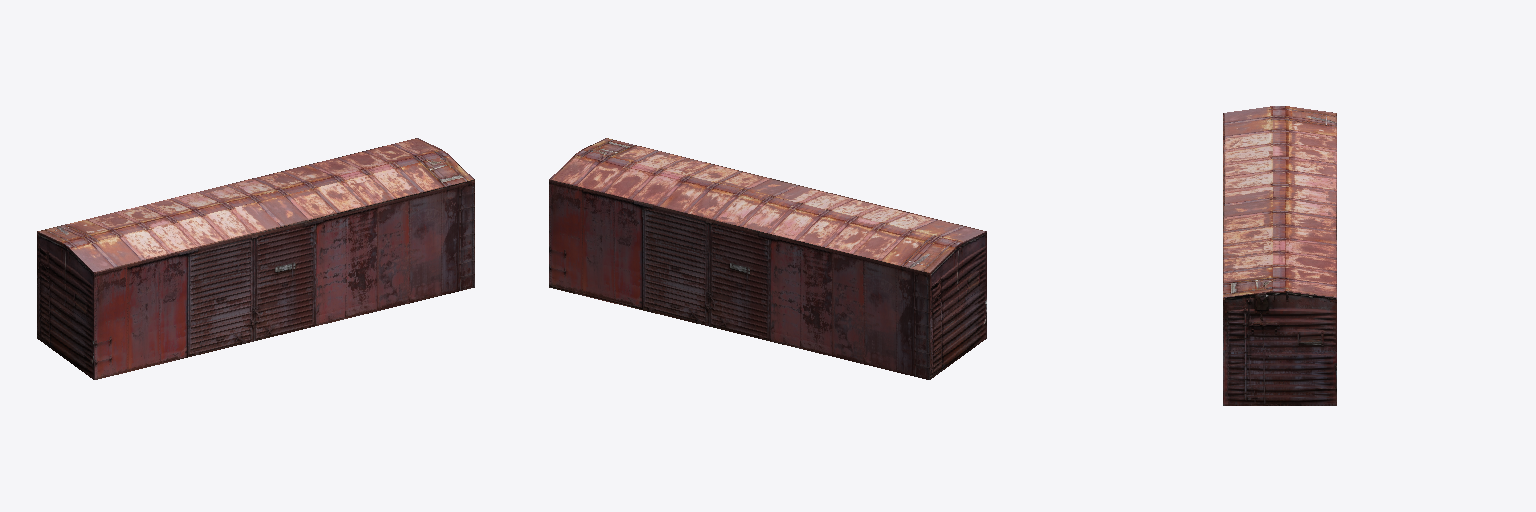
3 views of the same model, side by side, from view 1: azimuth 30°, elevation 25°; view 2: azimuth 150°, elevation 25°; view 3: azimuth 270°, elevation 25° (orthographic).
Visible parts, largest first — view 1: boxcar_lo_container_Cube.001; view 2: boxcar_lo_container_Cube.001; view 3: boxcar_lo_container_Cube.001.
Boxes of the visible parts, box(x1,y1,x2,y2) form: boxcar_lo_container_Cube.001: box(37, 138, 474, 379); boxcar_lo_container_Cube.001: box(549, 138, 986, 379); boxcar_lo_container_Cube.001: box(1223, 106, 1336, 405).
Bounding box in the file's own units: 12.28 × 3.52 × 3.19.
Materials: 1 (1 with a texture image).